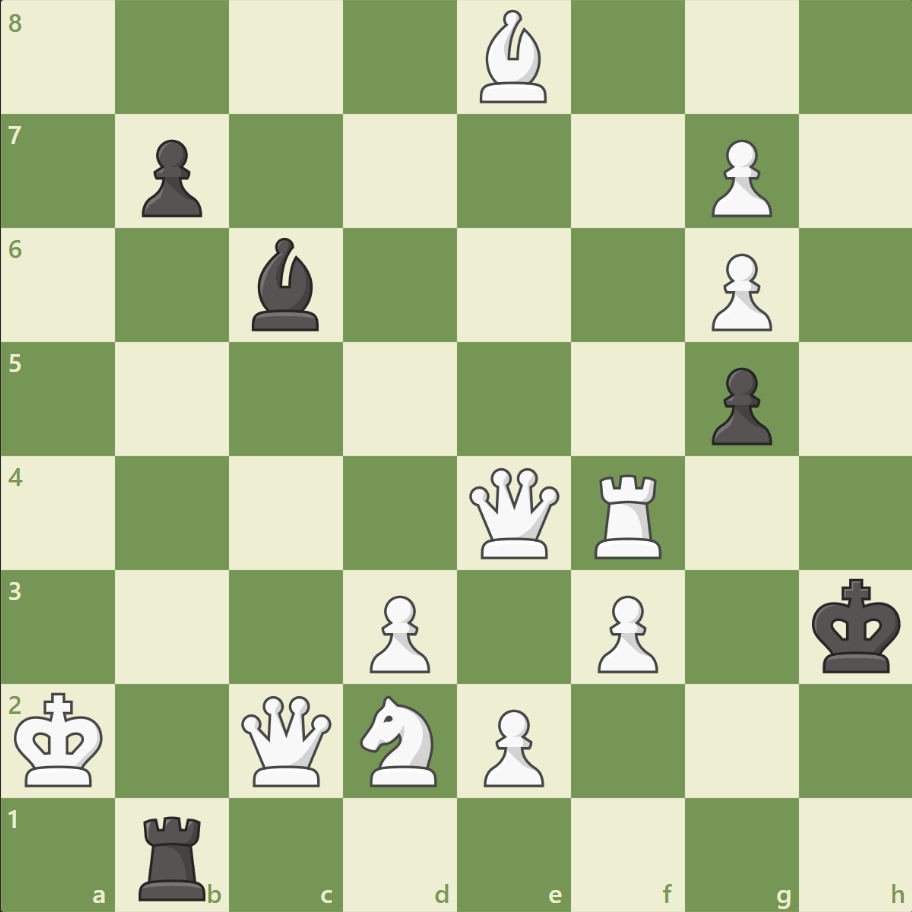B: (471, 6, 555, 109)
K: (11, 685, 111, 793)
N: (351, 688, 449, 791)
P: (701, 132, 776, 223), (701, 246, 776, 337), (474, 700, 549, 791), (361, 586, 435, 677), (588, 586, 662, 677)
Q: (464, 463, 563, 562), (237, 690, 336, 789)
R: (587, 466, 670, 563)
b: (244, 233, 328, 336)
k: (806, 571, 906, 679)
p: (133, 132, 208, 223), (701, 359, 776, 450)
r: (133, 806, 215, 904)
